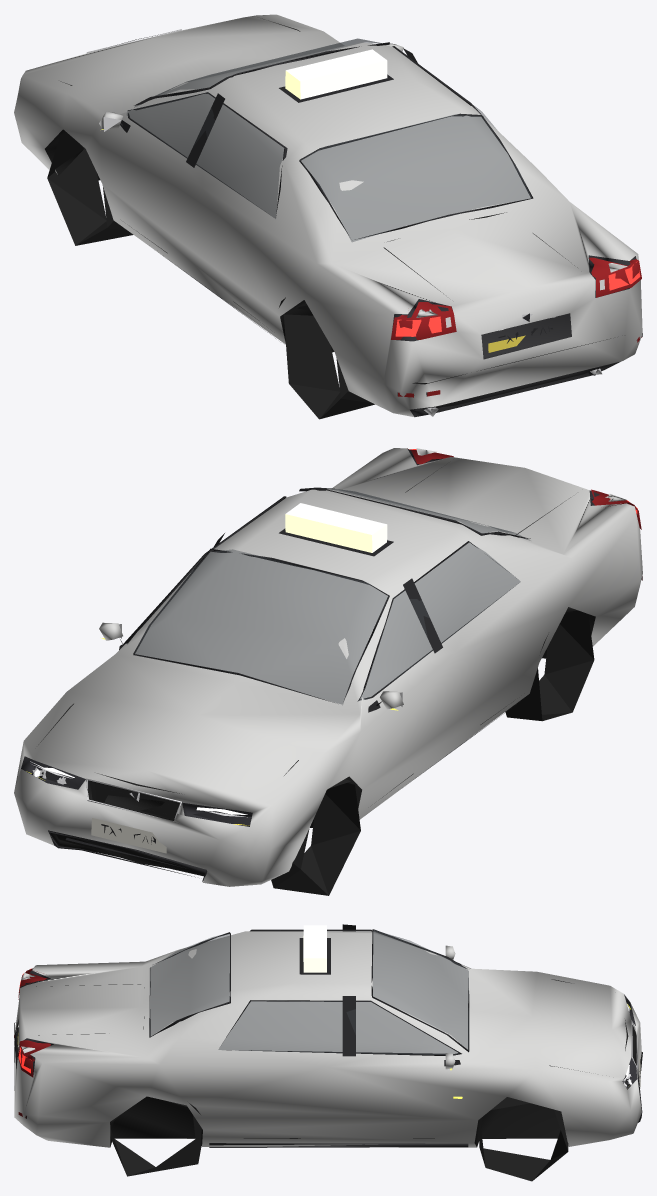
The model's file is civ_taxi_lod1.glb.
The picture shows the model from 3 angles, top to bottom: view 1: azimuth 30°, elevation 25°; view 2: azimuth 150°, elevation 25°; view 3: azimuth 270°, elevation 25°; orthographic projection. The views are drawn at different scales.
Visible parts, largest first — view 1: civ_taxi.001; view 2: civ_taxi.001; view 3: civ_taxi.001.
Boxes of the visible parts, x1=… form: civ_taxi.001: x1=14, y1=14, x2=642, y2=419; civ_taxi.001: x1=14, y1=448, x2=642, y2=895; civ_taxi.001: x1=14, y1=924, x2=642, y2=1181.
Bounding box in the file's own units: 2.08 × 1.63 × 4.8.
